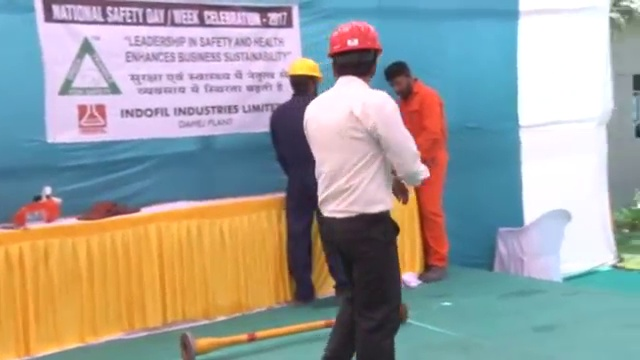helmet: (323, 18, 386, 56), (287, 56, 324, 83)
helmet_off: (383, 58, 415, 101)
helmet_on: (323, 16, 388, 88), (285, 55, 325, 99)
person: (303, 15, 430, 360), (269, 54, 351, 303), (384, 55, 453, 282)
